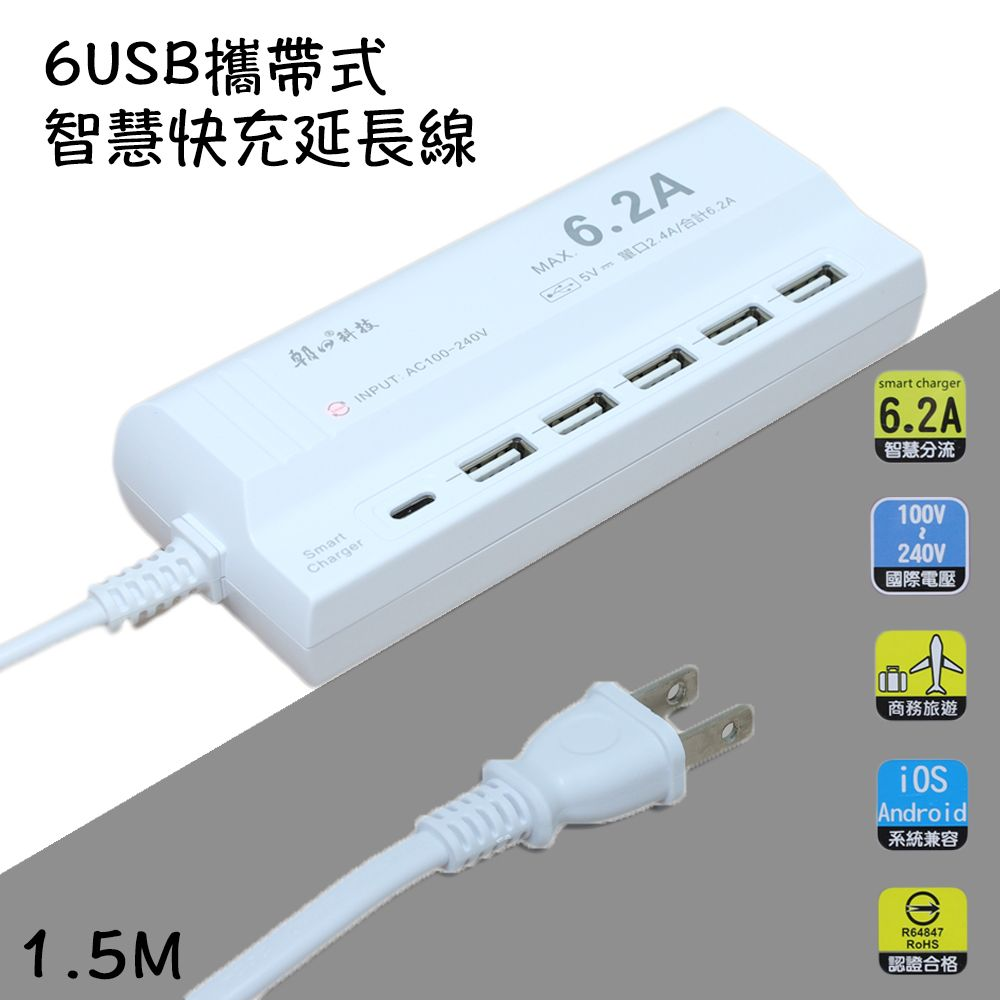socket: (111, 107, 929, 687)
